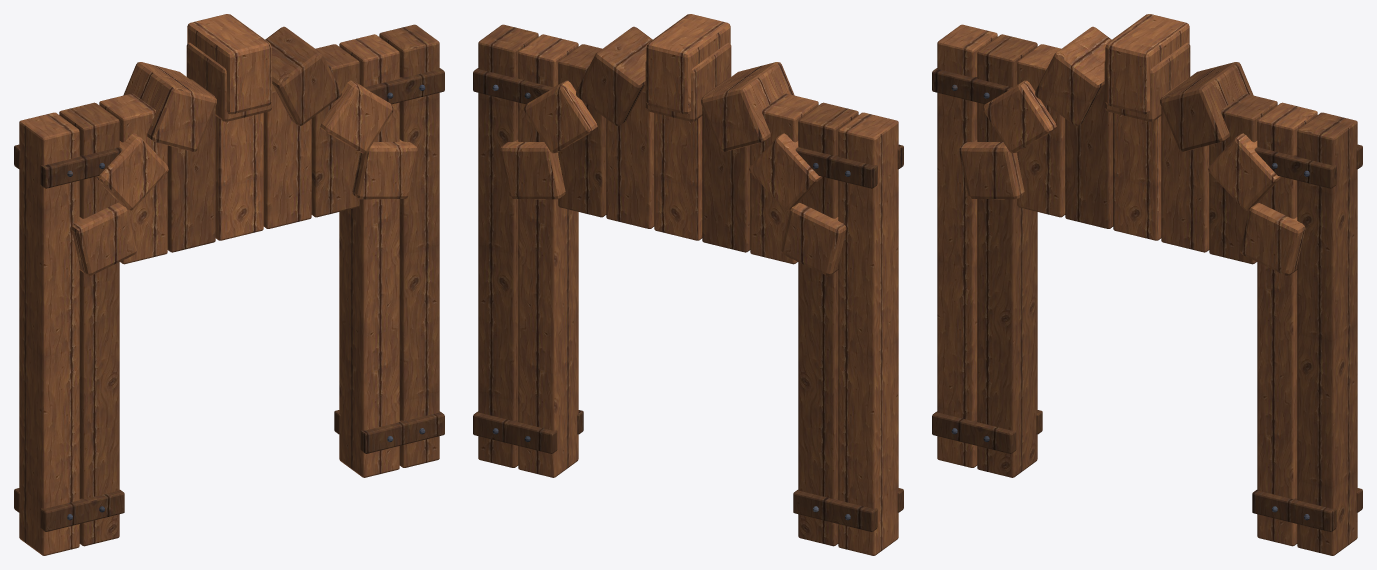
The model's file is arch_doorway__plank_root.glb.
3 views of the same model, side by side, from view 1: azimuth 30°, elevation 25°; view 2: azimuth 150°, elevation 25°; view 3: azimuth 330°, elevation 25° (orthographic).
Visible parts, largest first — view 1: model; view 2: model; view 3: model.
Boxes of the visible parts, x1,y1,x2,y2 form: model: (14, 14, 444, 555); model: (473, 14, 903, 555); model: (932, 14, 1362, 555).
Bounding box in the file's own units: 2 × 2.23 × 0.38.
7 materials, 7 textured.
